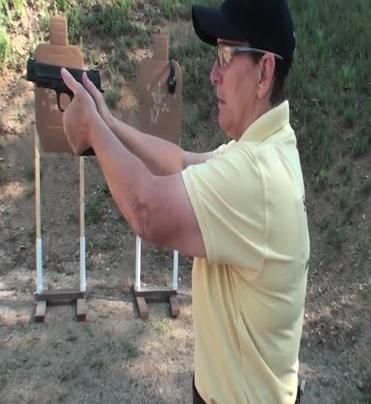pistol: (25, 56, 102, 157)
